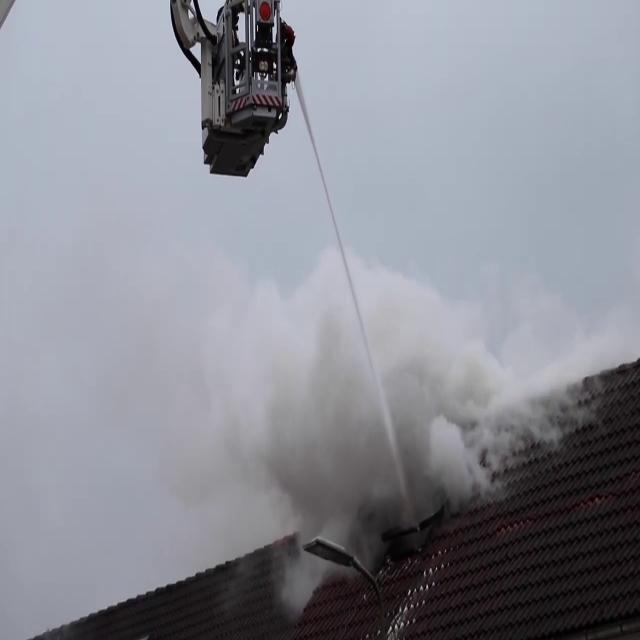Smoke: (178, 232, 596, 560)
